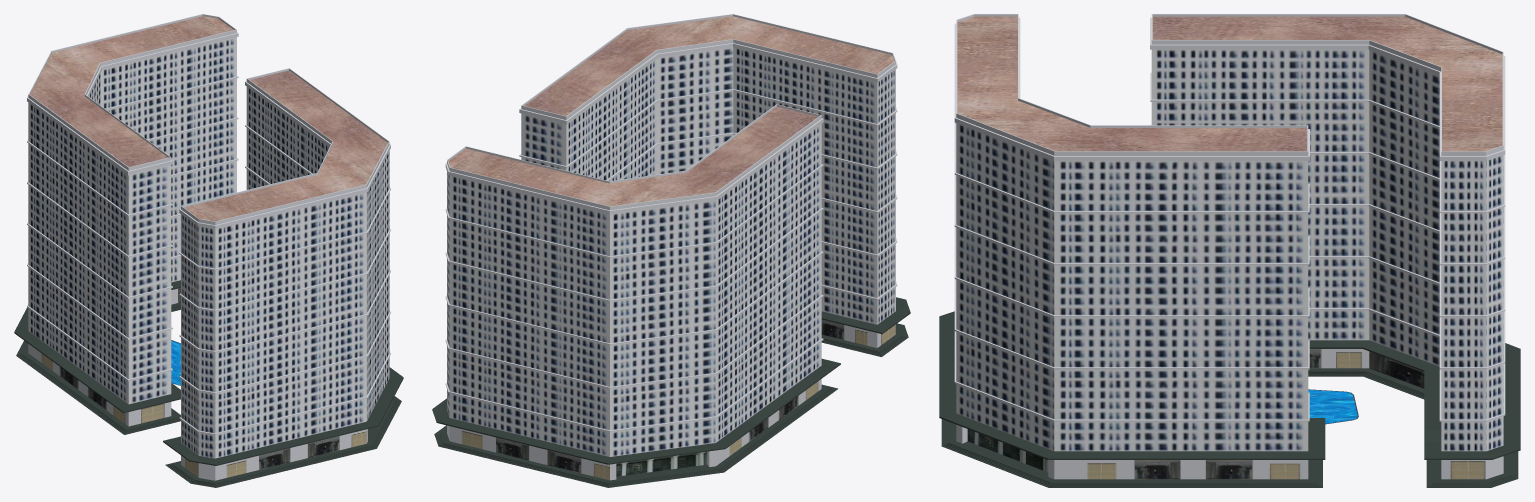
3 views of the same model, side by side, from view 1: azimuth 30°, elevation 25°; view 2: azimuth 150°, elevation 25°; view 3: azimuth 270°, elevation 25° (orthographic). The views are drawn at different scales.
Bounding box in the file's own units: 112 × 114 × 182.
1 material, 1 textured.
